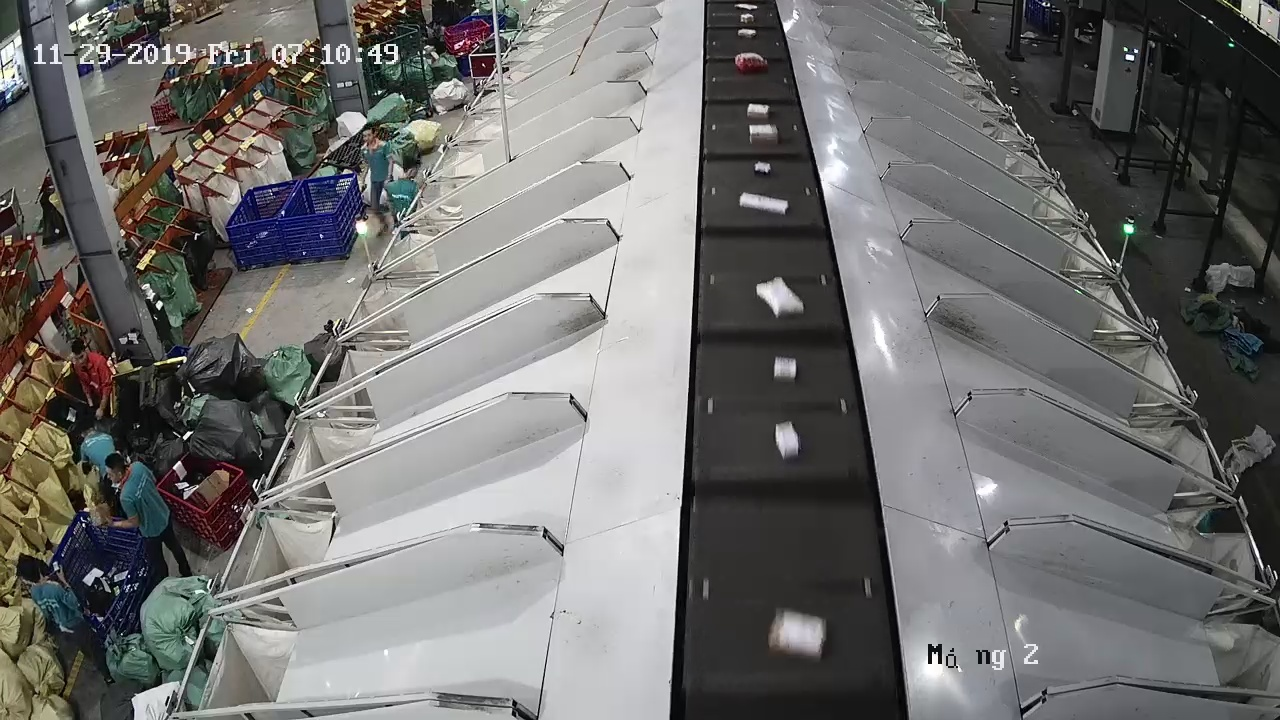parcel: (769, 608, 826, 664), (756, 277, 804, 318), (738, 191, 789, 215), (774, 420, 799, 461), (748, 123, 779, 146), (773, 356, 797, 383), (747, 102, 770, 120), (753, 160, 772, 176)
